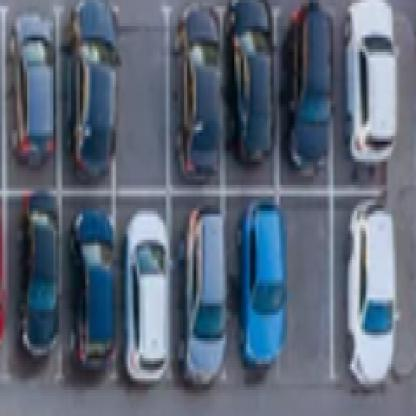Car: (74, 31, 109, 178), (72, 240, 111, 369), (16, 33, 50, 165), (243, 226, 275, 355), (133, 247, 168, 361), (356, 221, 385, 356), (352, 23, 377, 170), (190, 224, 218, 354), (180, 28, 211, 141), (295, 28, 321, 150), (240, 12, 261, 140), (30, 219, 55, 326)
Empty: (297, 240, 334, 387), (129, 40, 165, 172)
